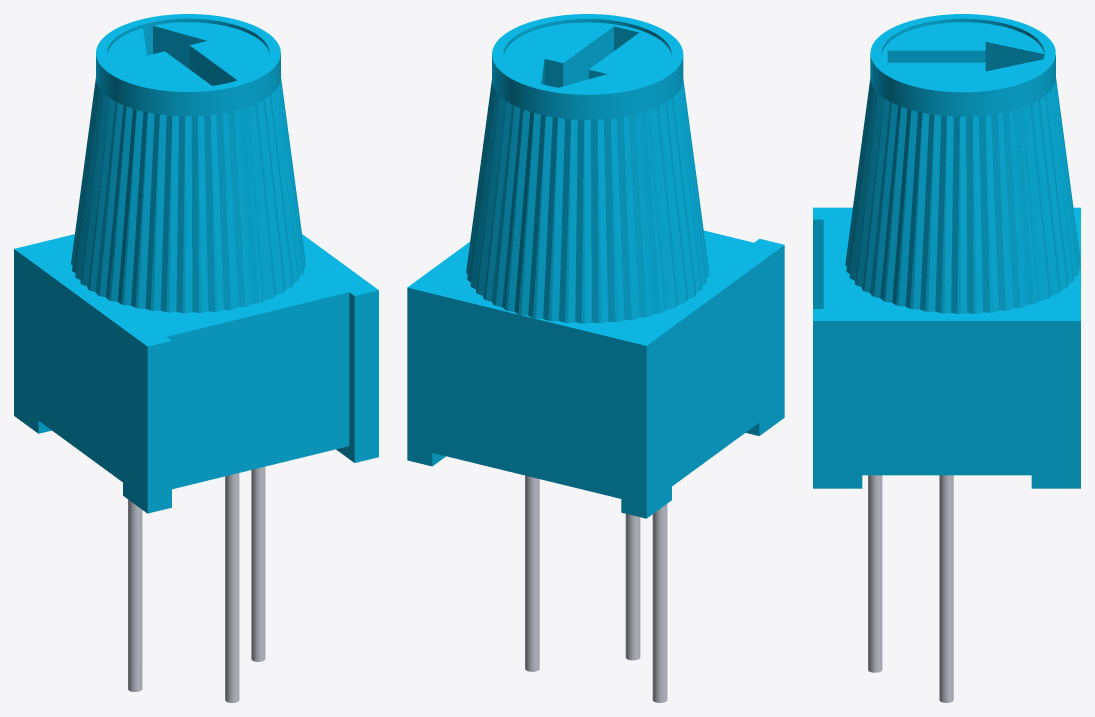
Rendered from block_3D_PCB1_2025-03-17_v1_72a1b1c8.glb.
The picture shows the model from 3 angles, left to right: view 1: azimuth 30°, elevation 25°; view 2: azimuth 150°, elevation 25°; view 3: azimuth 270°, elevation 25°; orthographic projection. The views are drawn at different scales.
Visible parts, largest first — view 1: Body2, Body1, Body5, Body4, Body3; view 2: Body2, Body1, Body3, Body4, Body5; view 3: Body1, Body2, Body4, Body5.
Part boxes in pixels (x1,y1,x2,y2): Body2: (14,234,378,513); Body1: (71,14,305,313); Body5: (225,473,239,702); Body4: (251,466,265,661); Body3: (128,499,142,691); Body2: (407,230,784,518); Body1: (466,14,708,323); Body3: (652,504,667,702); Body4: (525,475,539,671); Body5: (625,514,640,660); Body1: (845,14,1080,313); Body2: (813,207,1080,488); Body4: (939,475,953,702); Body5: (868,475,882,672).
Bounding box in the file's own units: 0.007 × 0.0178 × 0.007.
